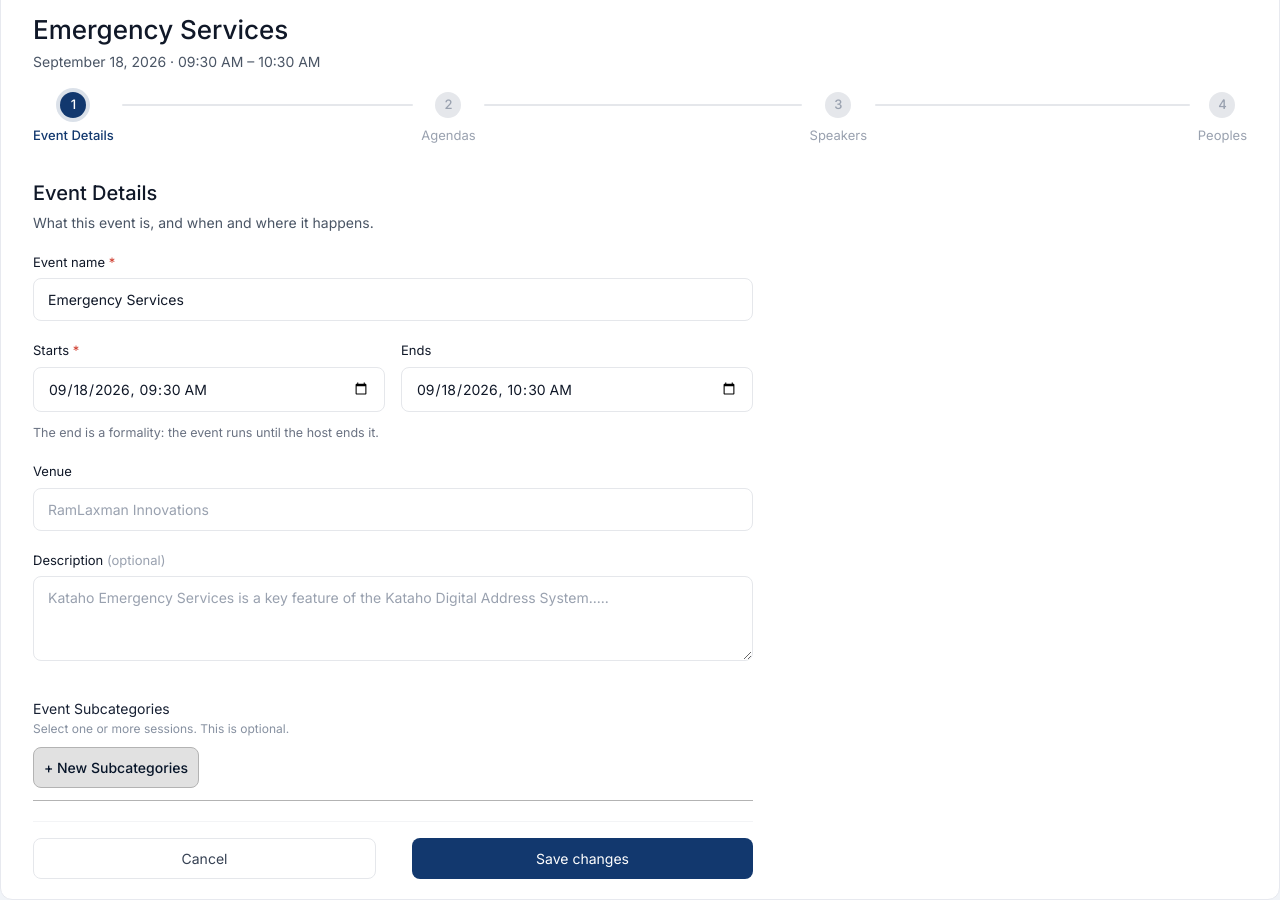
the actions at the foot of each step › carries on from the agenda step to the speakers
(page scrolled)
Click the button "Save changes" at [582, 859], box 412,838 -> 753,879
(page scrolled)
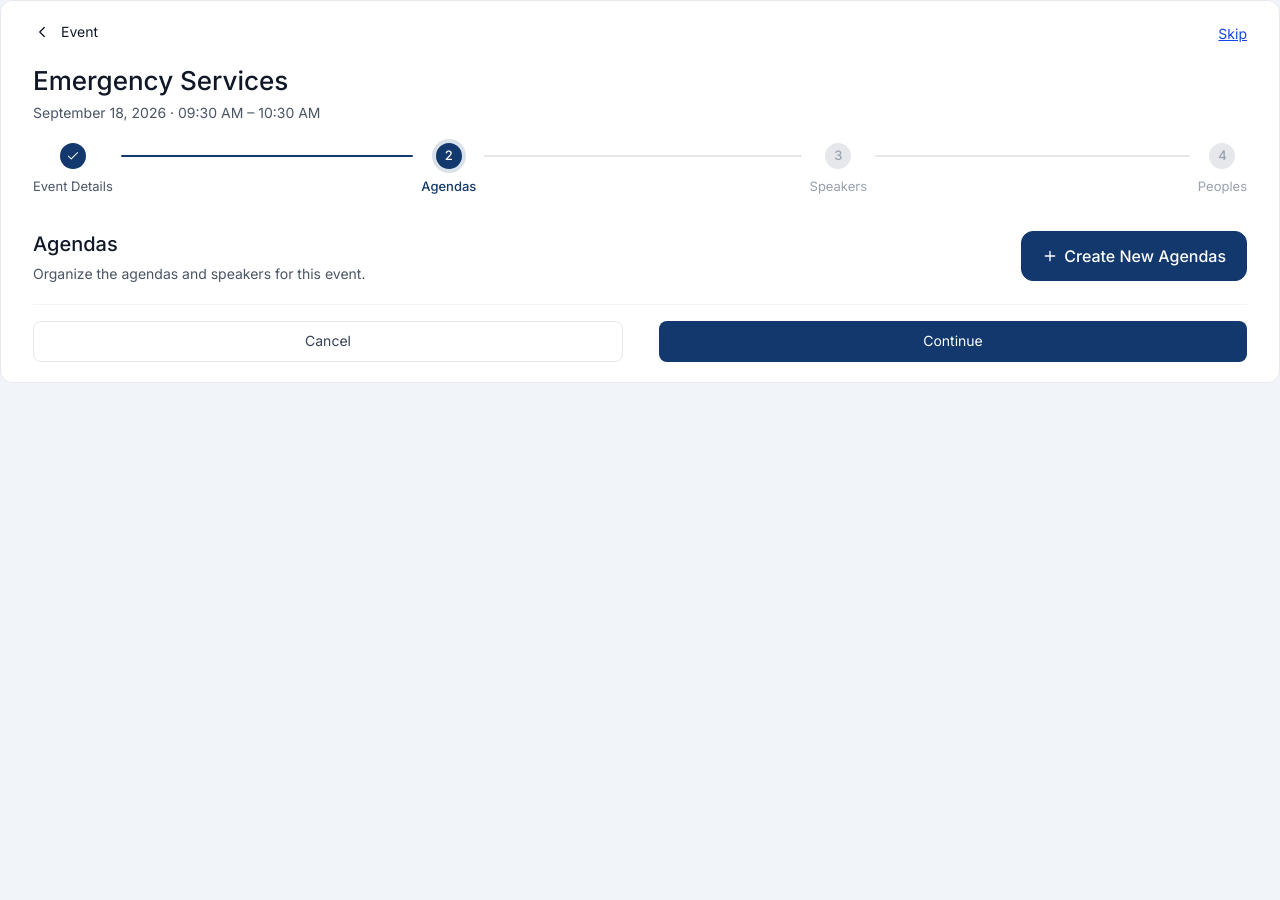
Click the button "Continue" at [953, 341], box 659,321 -> 1247,362
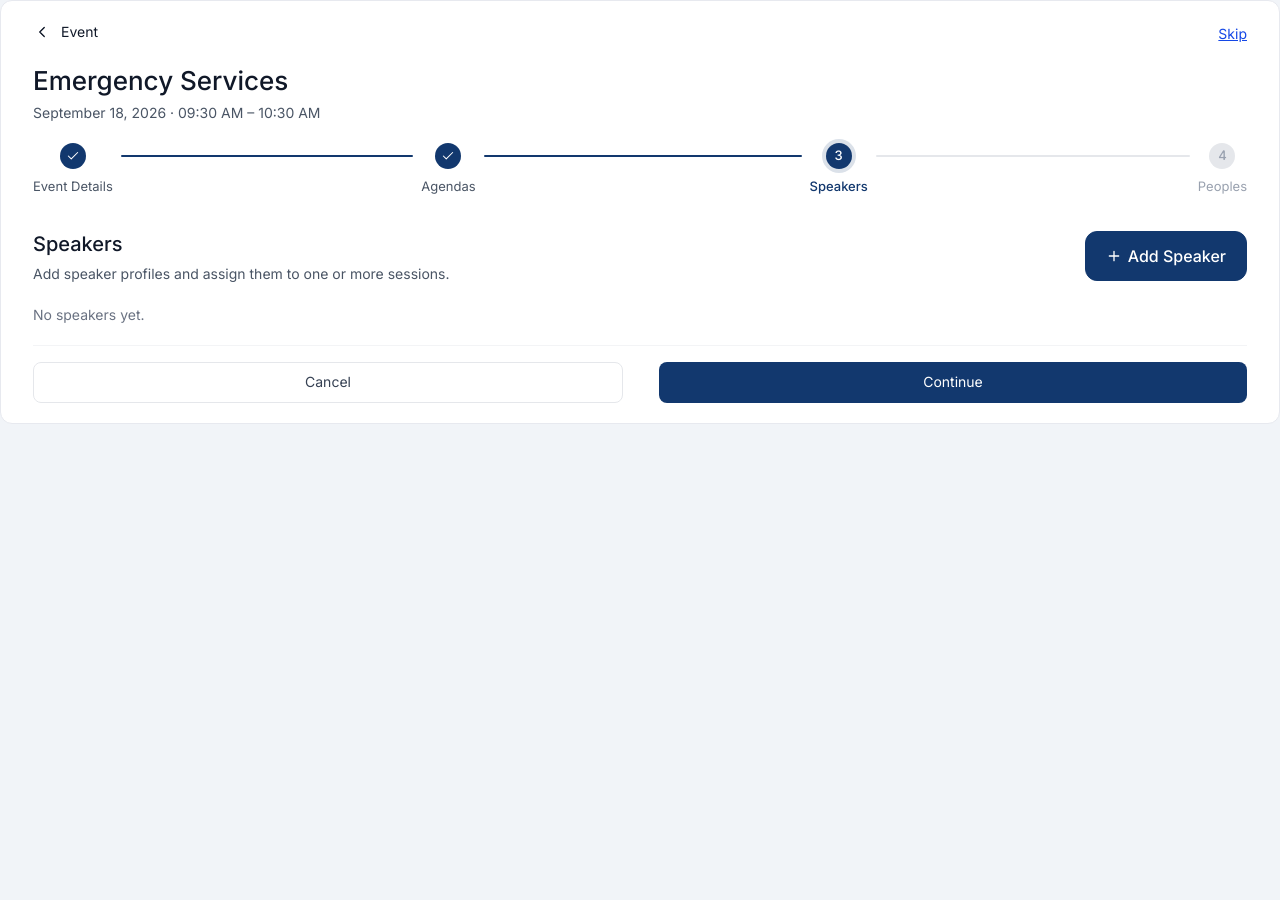
Check: the heading "Speakers" is shown, box 33,232 -> 123,256
